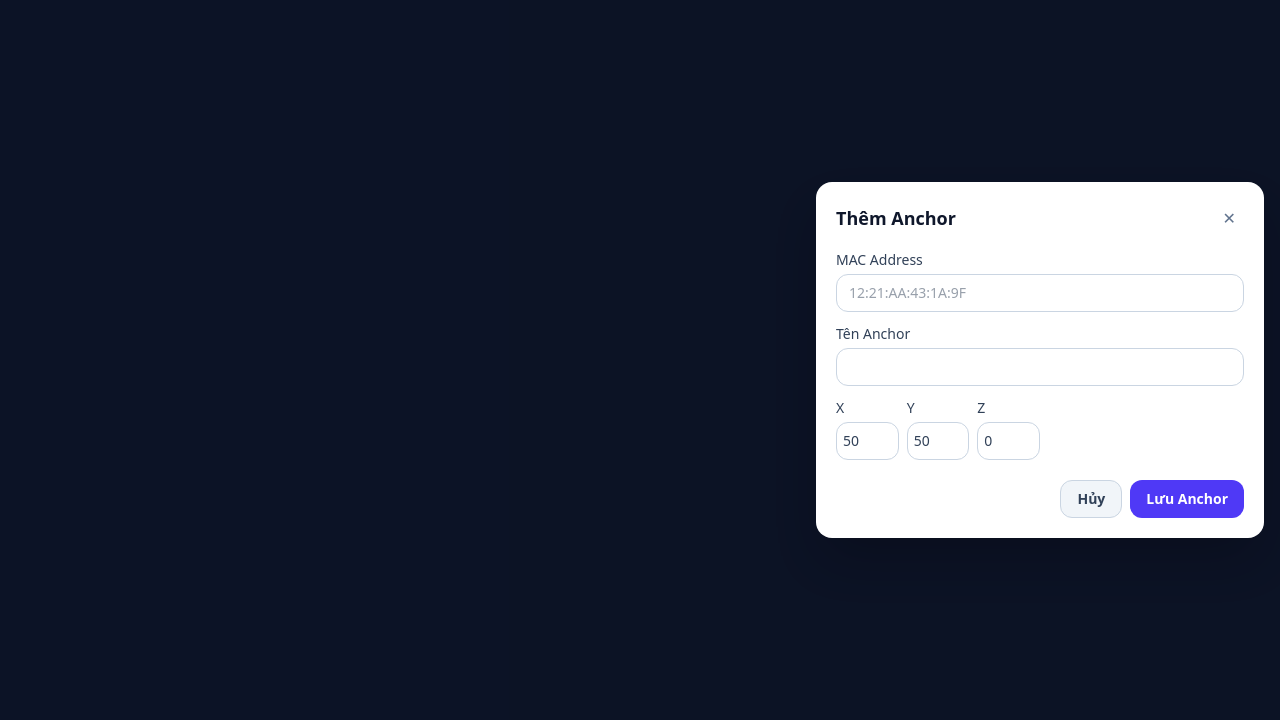
it: Phase 2 Anchor map UI › shows a validation error for a malformed MAC address
Type "12:21:aa:43:jh" into the field labelled "MAC Address" at (1040, 293), box [836, 274, 1244, 312]
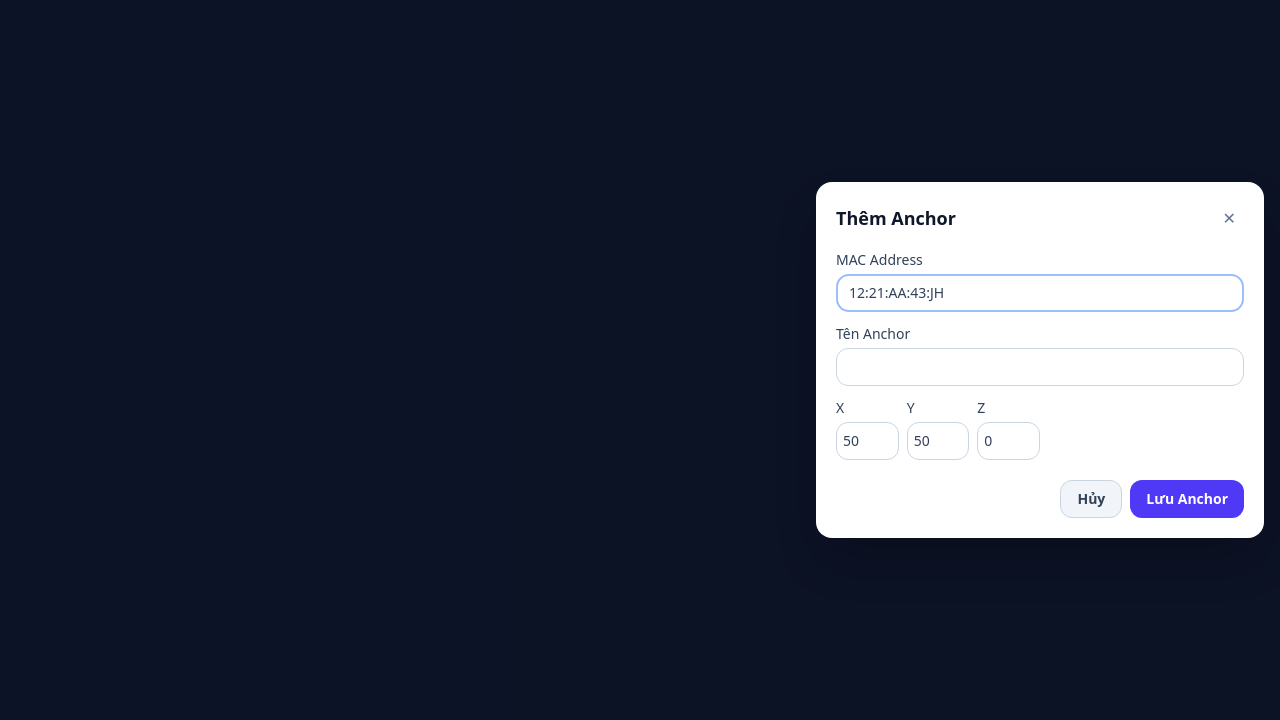
Type "Invalid MAC" into the field labelled "Tên Anchor" at (1040, 367), box [836, 348, 1244, 386]
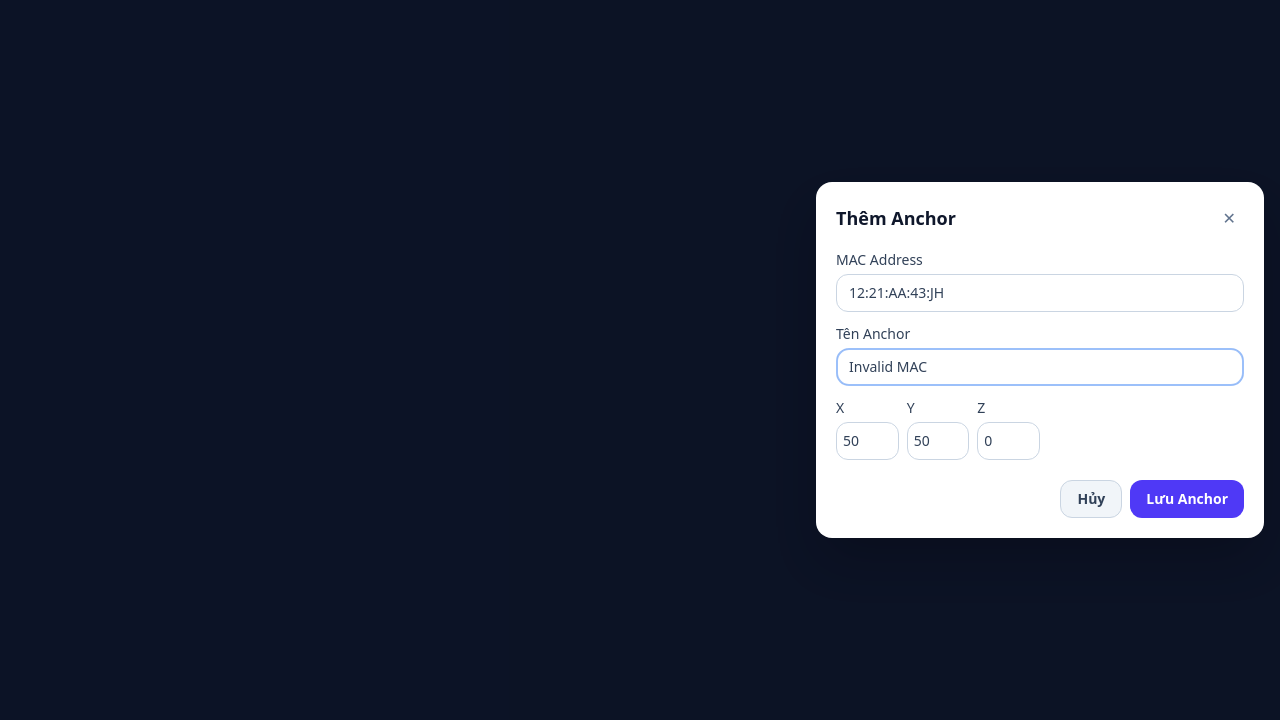
Click the button "Lưu Anchor" at (1187, 499), box [1130, 480, 1244, 518]
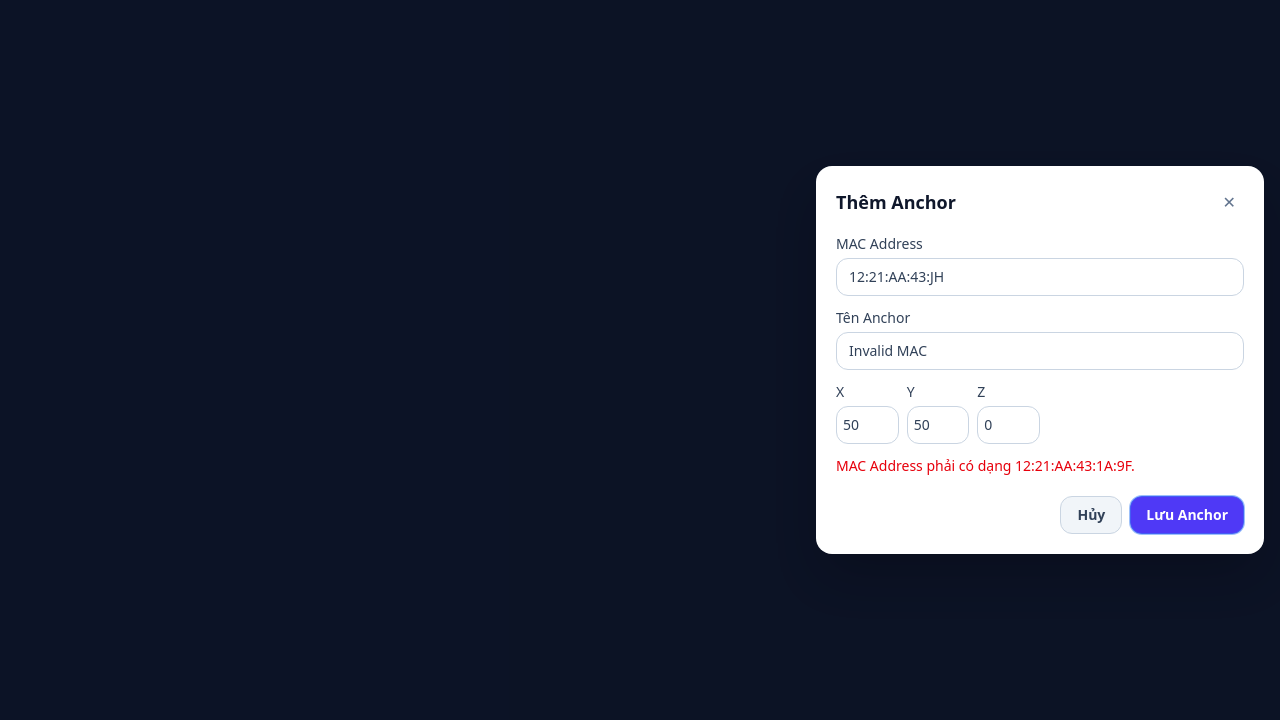
Now the message shows "MAC Address", box [836, 456, 1135, 475]
